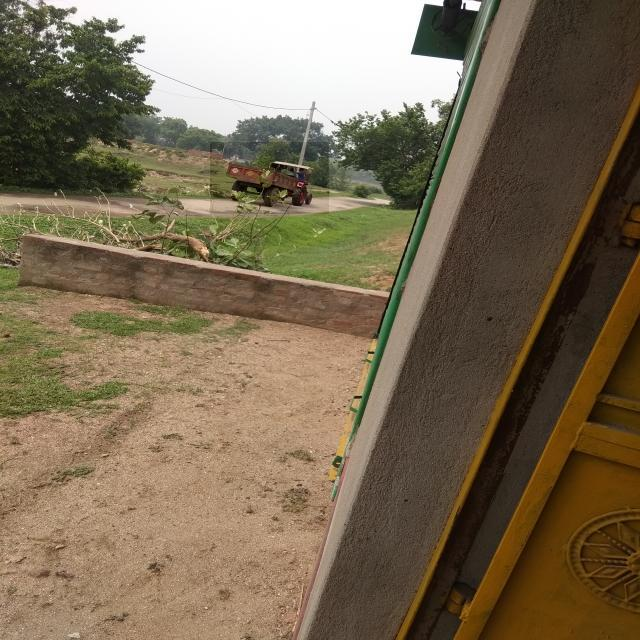Tractot: (210, 142, 329, 214)
